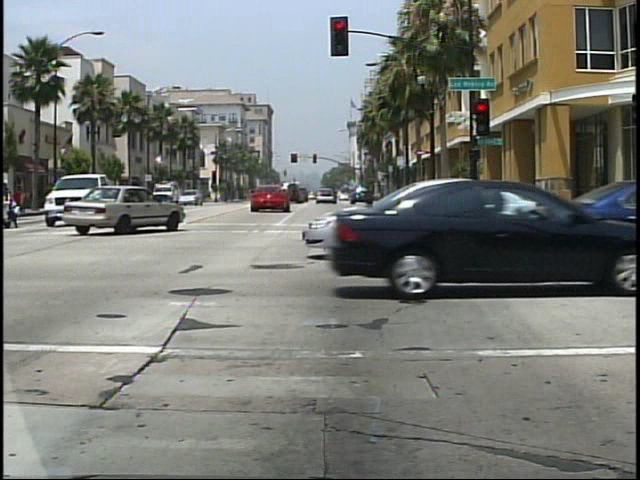person: (1, 174, 22, 230)
